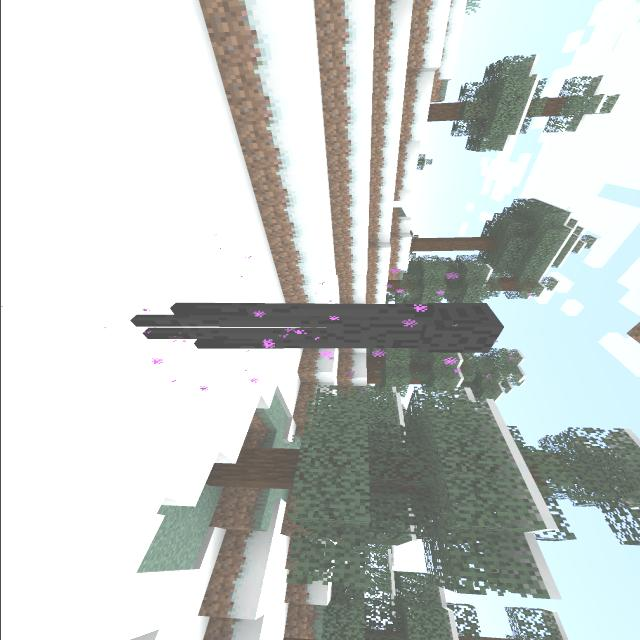Enderman: (120, 290, 506, 365)
